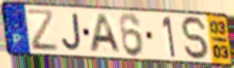1: (161, 15, 177, 59)
6: (118, 11, 145, 59)
A: (88, 14, 124, 55)
J: (60, 12, 83, 53)
S: (180, 15, 212, 62)
Z: (25, 8, 60, 53)
